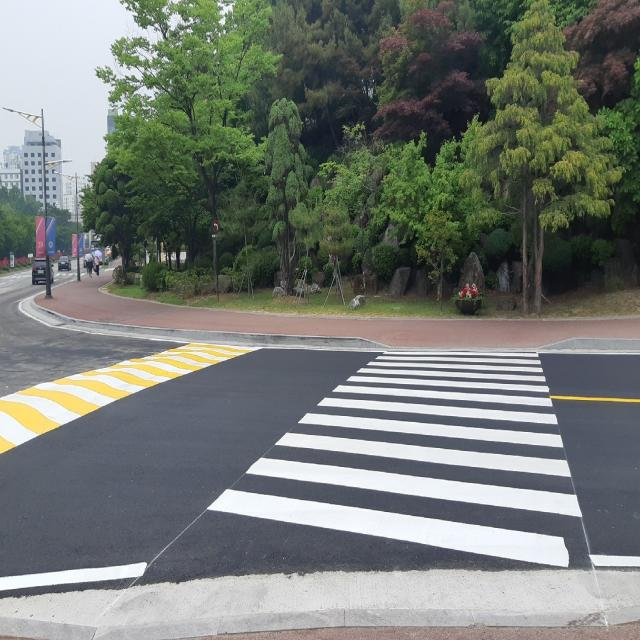횡단보도: (208, 348, 586, 572)
